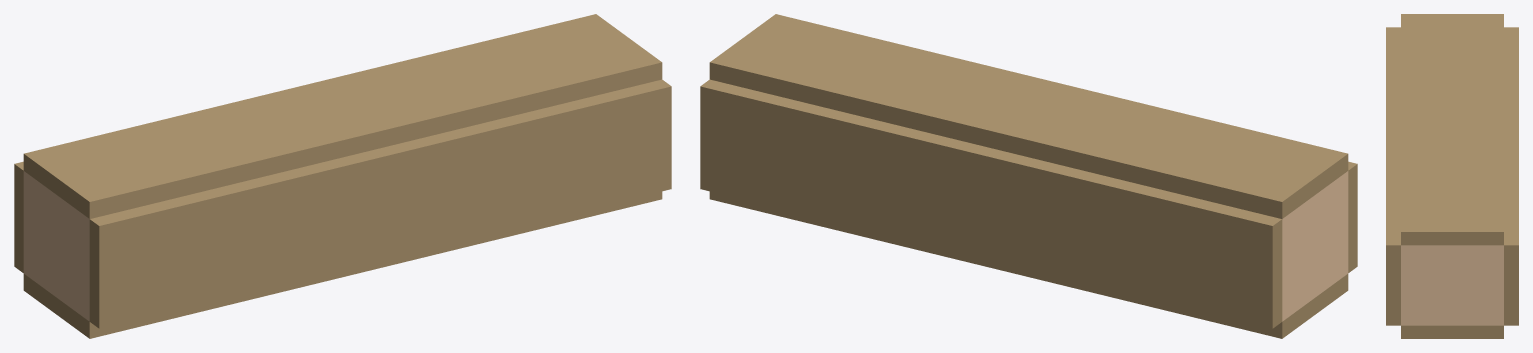
The model's file is Tronco.fbx.
3 views of the same model, side by side, from view 1: azimuth 30°, elevation 25°; view 2: azimuth 150°, elevation 25°; view 3: azimuth 270°, elevation 25° (orthographic). The views are drawn at different scales.
Parts seen in each view (by area): view 1: tronco_35x8x9; view 2: tronco_35x8x9; view 3: tronco_35x8x9.
Part boxes in pixels (x1=…): tronco_35x8x9: x1=14, y1=14, x2=671, y2=338; tronco_35x8x9: x1=700, y1=14, x2=1357, y2=338; tronco_35x8x9: x1=1386, y1=14, x2=1518, y2=338.
Bounding box in the file's own units: 1029 × 235 × 265.
